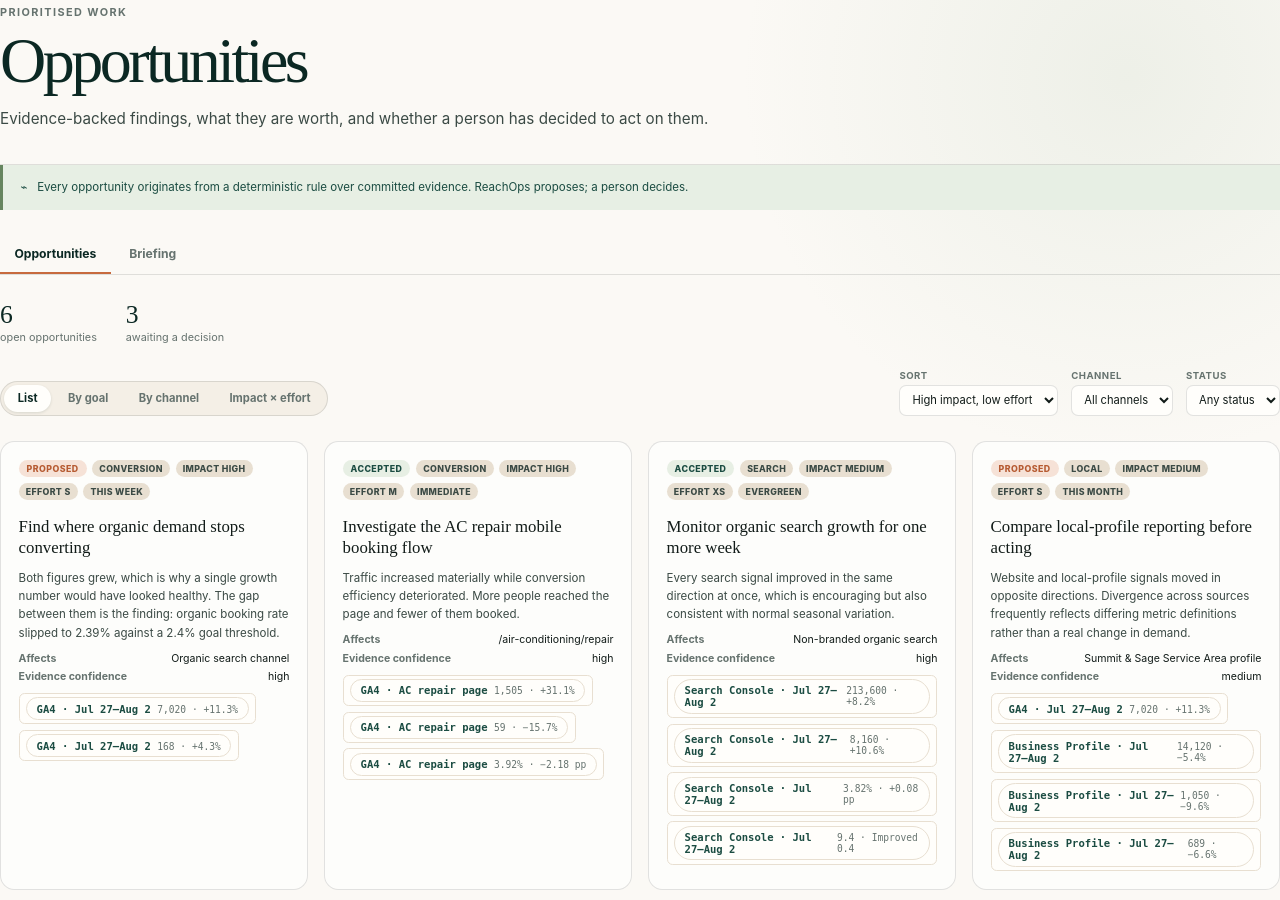
Test case: OpportunitiesView › says plainly when no explanation is offered
Click the button "Find where organic demand stops converting".
click(154, 538)  # box [19,517,289,559]
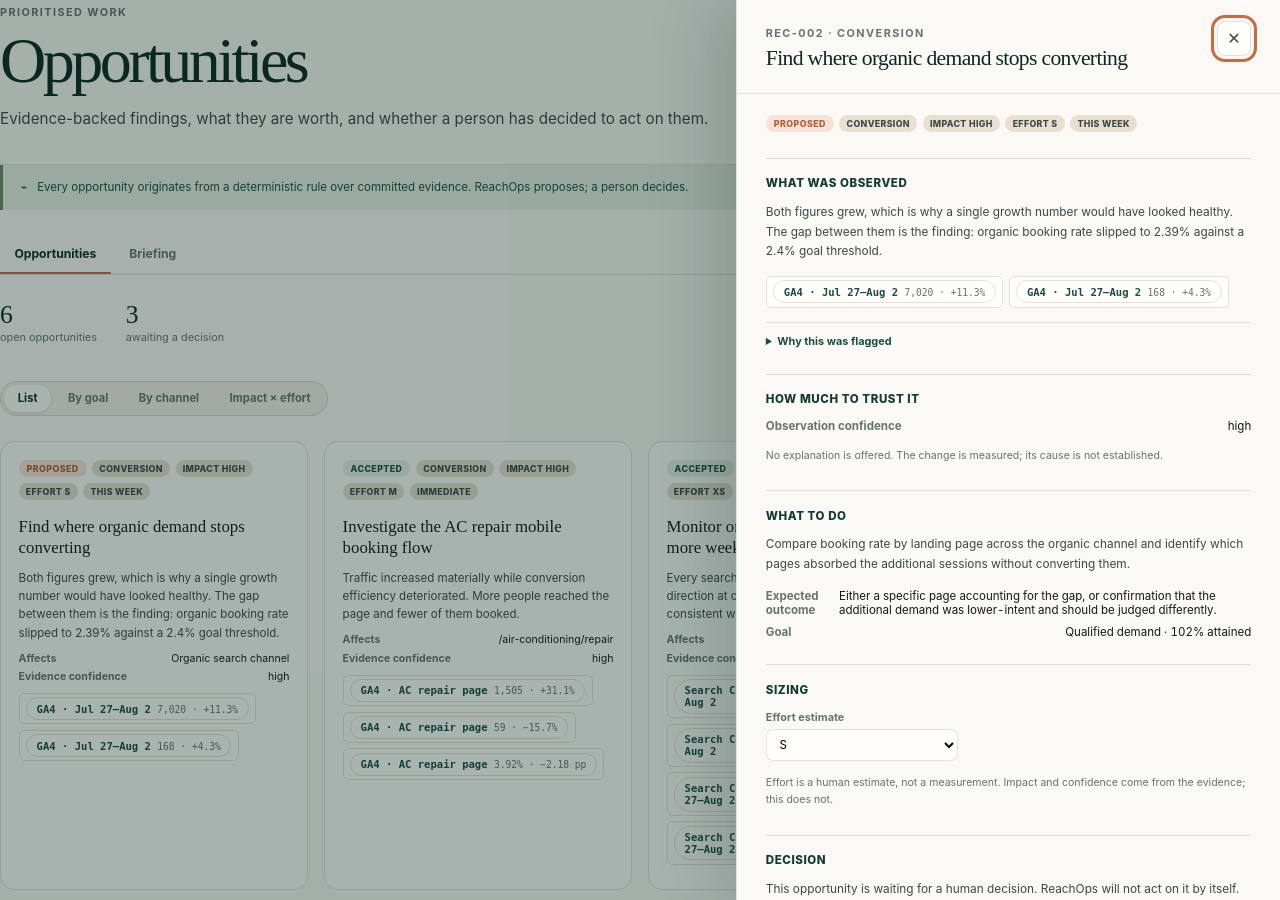
Result: the text "The change is measured; its cause is not established" is shown at [766,448,1163,462]
